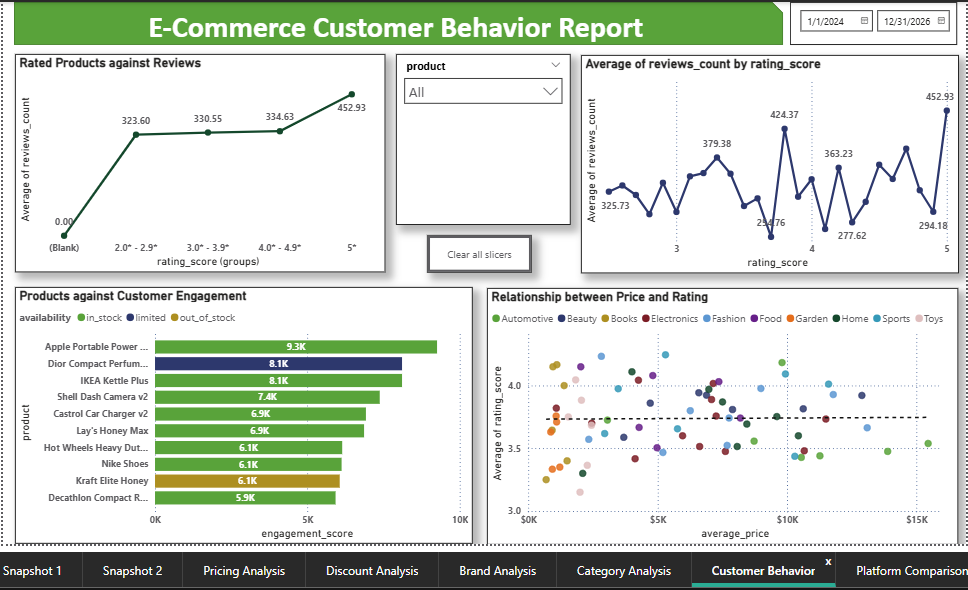

Layout of this report page (visuals, bound fields, positions):
{"tool":"powerbi","page":{"name":"Customer Behavior","canvas":[1280,720],"ordinal":6},"visuals":[{"type":"lineChart","title":"Rated Products against Reviews","fields":{"Y":["Avg(ecommerce_dataset.reviews_count)"],"Category":["ecommerce_dataset.rating_score (groups)"]},"box":[16.1,69.7,491.6,289.6],"z":0},{"type":"shape","box":[14.3,0,1021.7,57.1],"z":1000},{"type":"slicer","fields":{"Values":["ecommerce_dataset.product"]},"box":[522,69.7,232.4,227],"z":2000},{"type":"actionButton","box":[563.1,309.3,139.4,50.1],"z":3000},{"type":"lineChart","fields":{"Y":["Avg(ecommerce_dataset.reviews_count)"],"Category":["ecommerce_dataset.rating_score"]},"box":[767.8,70.2,501.9,289.8],"z":4000},{"type":"barChart","title":"Products against Customer Engagement","fields":{"Category":["ecommerce_dataset.product"],"Y":["ecommerce_dataset.engagement_score"],"Series":["ecommerce_dataset.availability"]},"box":[16.1,379,607.8,341.5],"z":5000},{"type":"scatterChart","title":"Relationship between Price and Rating","fields":{"X":["KPI Measures.average_price"],"Y":["ecommerce_dataset.rating_score"],"Series":["ecommerce_dataset.category"],"Category":["ecommerce_dataset.brand"]},"box":[642.3,379.4,625.9,340.6],"z":6000},{"type":"slicer","fields":{"Values":["Date Table.Date"]},"box":[1045.8,0,221.7,57.2],"z":7000}]}

Visuals, with their boxes on the page's 1280x720 design canvas (x1, y1, x2, y2). These are canvas units, not pixel positions in the 968x590 screenshot, which may show the page scaled, cropped or inside an application window:
"Rated Products against Reviews" lineChart: {"x1": 16, "y1": 70, "x2": 508, "y2": 359}
shape: {"x1": 14, "y1": 0, "x2": 1036, "y2": 57}
slicer - ecommerce_dataset.product: {"x1": 522, "y1": 70, "x2": 754, "y2": 297}
actionButton: {"x1": 563, "y1": 309, "x2": 702, "y2": 359}
lineChart - Avg(ecommerce_dataset.reviews_count) x ecommerce_dataset.rating_score: {"x1": 768, "y1": 70, "x2": 1270, "y2": 360}
"Products against Customer Engagement" barChart: {"x1": 16, "y1": 379, "x2": 624, "y2": 720}
"Relationship between Price and Rating" scatterChart: {"x1": 642, "y1": 379, "x2": 1268, "y2": 720}
slicer - Date Table.Date: {"x1": 1046, "y1": 0, "x2": 1268, "y2": 57}
